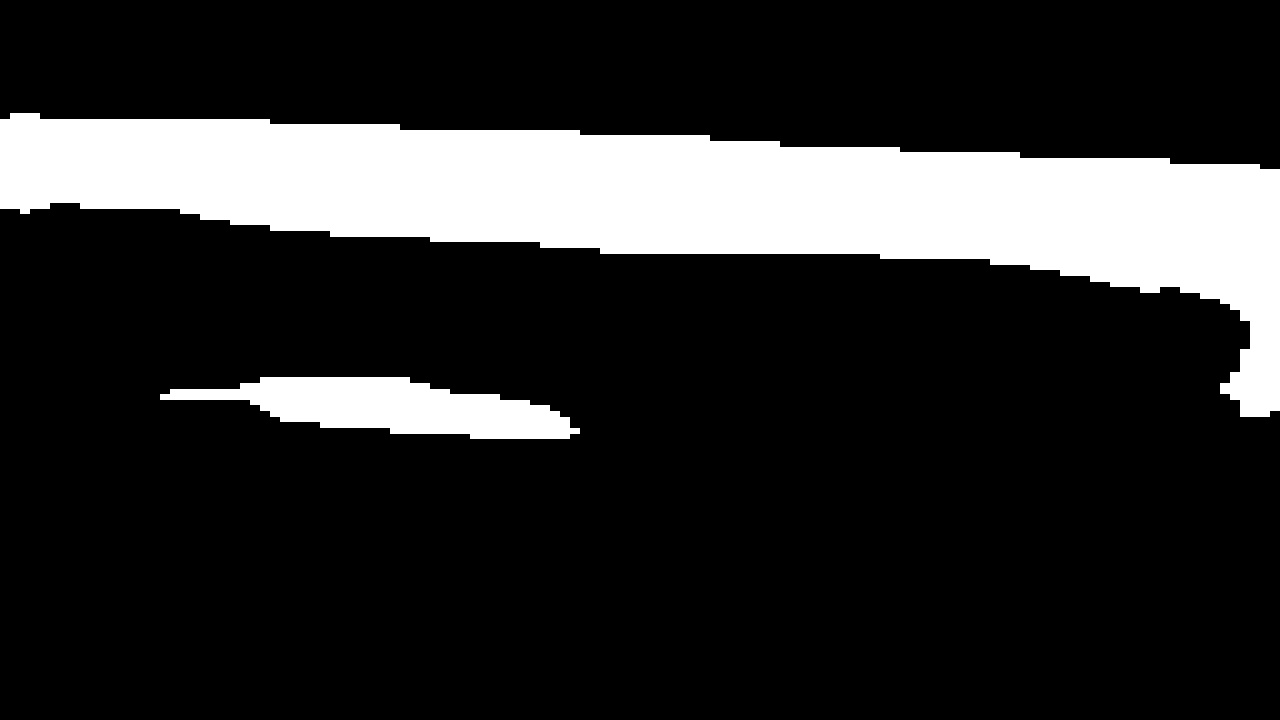Turbine: (6, 88, 1274, 456)
